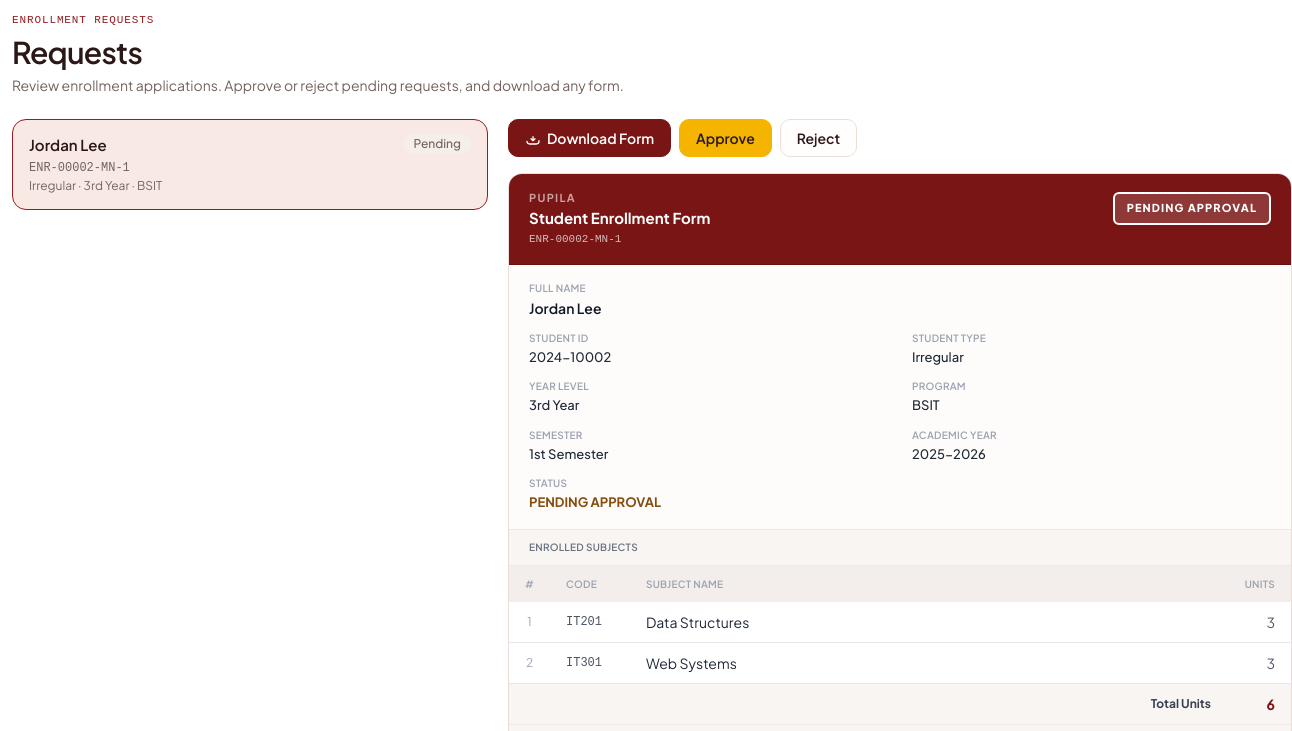
RequestsPage — staff user › shows inline error feedback when PATCH fails
Click the button with test id "confirm-btn" at (725, 138), box [679, 119, 772, 157]
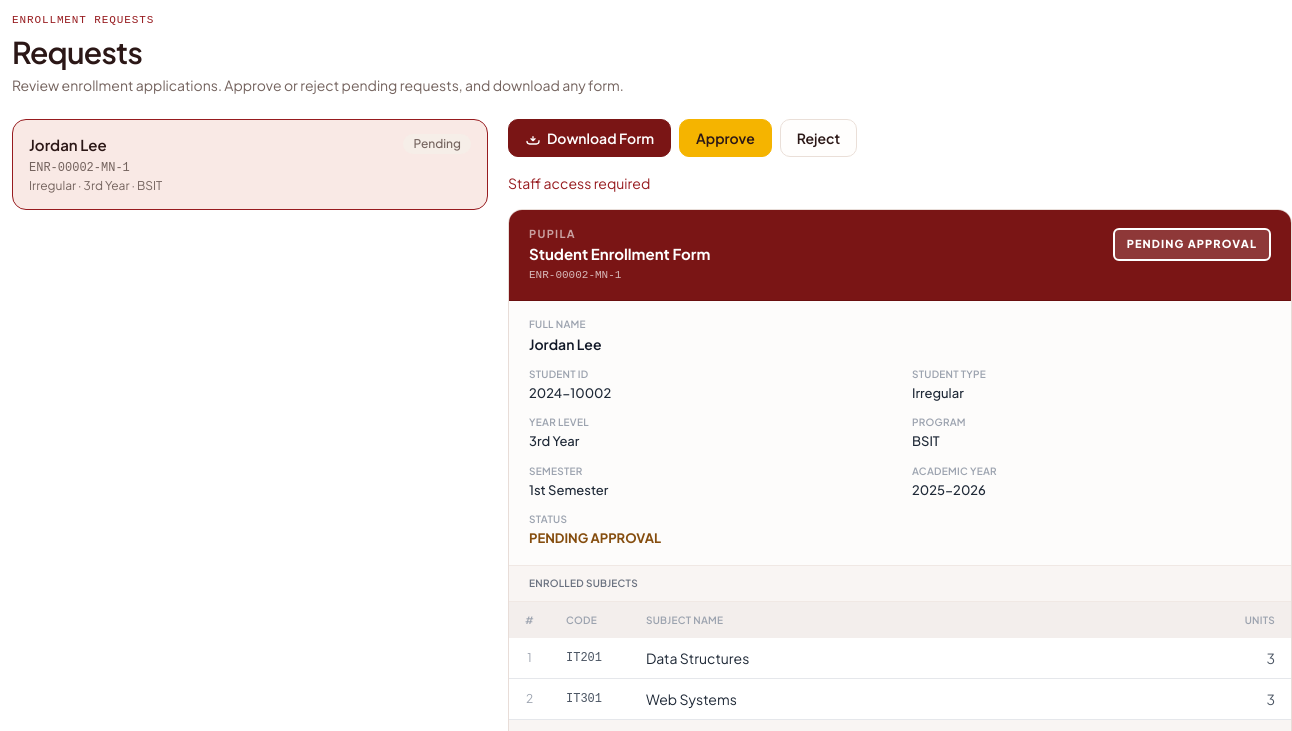
Check: the text with test id "action-error" reads "Staff access required", box [508, 174, 650, 192]
